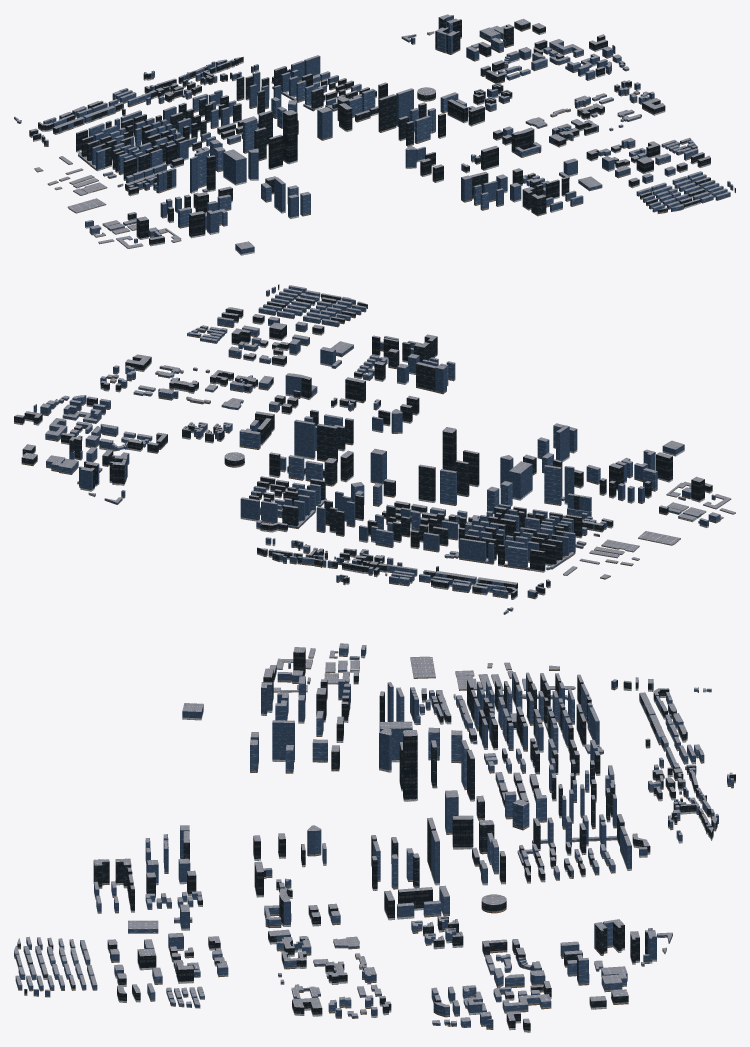
File: building-other.glb
3 renders of one model, top to bottom at view 1: azimuth 30°, elevation 25°; view 2: azimuth 150°, elevation 25°; view 3: azimuth 270°, elevation 25°, orthographic. The views are drawn at different scales.
Visible parts, largest first — view 1: 周边building合并; view 2: 周边building合并; view 3: 周边building合并.
Part boxes in pixels (<box>): 周边building合并: <box>14,14,735,255</box>; 周边building合并: <box>14,284,735,614</box>; 周边building合并: <box>14,643,735,1032</box>.
Bounding box in the file's own units: 2569 × 204 × 2045.
Materials: 7 (5 with a texture image).
